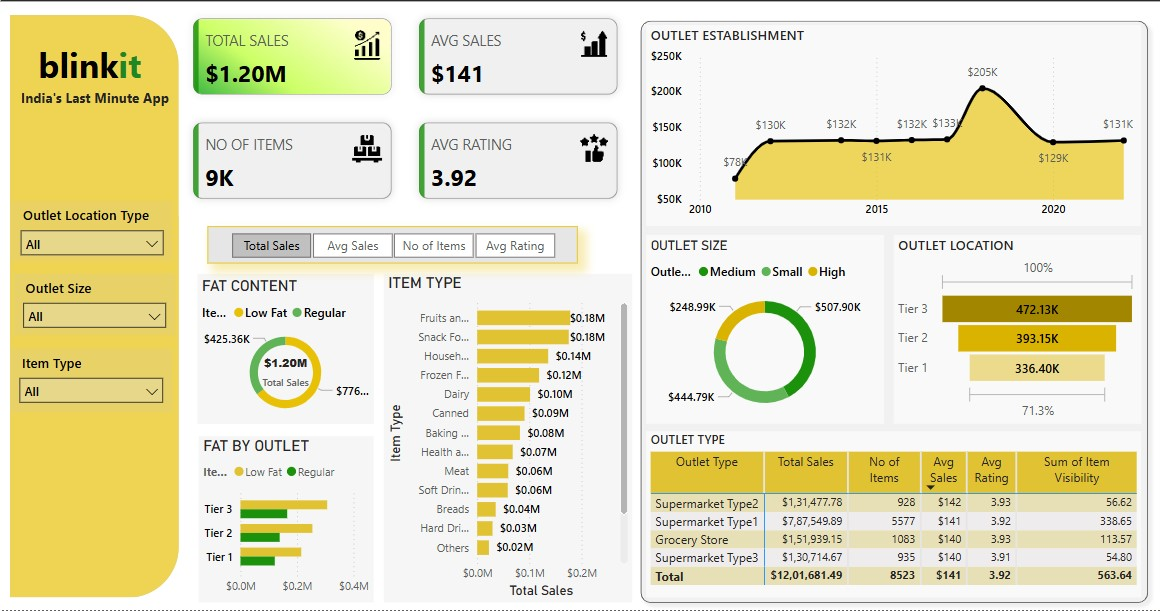

The dashboard page shown, as its layout file describes it:
{"tool":"powerbi","page":{"name":"Page 1","canvas":[1280,720],"ordinal":0},"visuals":[{"type":"shape","box":[11,65.9,185.2,639.5],"z":0},{"type":"textbox","box":[255.2,638.1,185.2,67.2],"z":1000},{"type":"textbox","box":[37,90.6,134.5,60.4],"z":2000},{"type":"textbox","box":[12.3,141.3,183.9,35.7],"z":3000},{"type":"cardVisual","fields":{"Data":["BlinkIT Grocery Data.Total Sales","BlinkIT Grocery Data.Average Sales","BlinkIT Grocery Data.No of Items","BlinkIT Grocery Data.Avg Rating"]},"box":[196.2,53.5,498.1,231.9],"z":4000},{"type":"shape","box":[694.3,63.1,575,657.3],"z":5000},{"type":"donutChart","title":"FAT CONTENT","fields":{"Y":["BlinkIT Grocery Data.Total Sales"],"Category":["BlinkIT Grocery Data.Item Fat Content"]},"box":[216.8,349.9,193.5,164.7],"z":6000},{"type":"slicer","fields":{"Values":["Matrices.Matrices"]},"box":[227.8,297.8,406.2,41.2],"z":7000},{"type":"card","fields":{"Values":["BlinkIT Grocery Data.Total Sales"]},"box":[278.6,432.2,70,53.5],"z":8000},{"type":"clusteredBarChart","title":"FAT BY  OUTLET","fields":{"Y":["BlinkIT Grocery Data.Total Sales"],"Category":["BlinkIT Grocery Data.Outlet Location Type"],"Series":["BlinkIT Grocery Data.Item Fat Content"]},"box":[218.2,528.3,192.1,182.5],"z":9000},{"type":"barChart","title":"ITEM TYPE","fields":{"Y":["BlinkIT Grocery Data.Total Sales"],"Category":["BlinkIT Grocery Data.Item Type"]},"box":[421.3,349.9,253.9,355.4],"z":10000},{"type":"lineChart","title":"OUTLET ESTABLISHMENT","fields":{"Category":["BlinkIT Grocery Data.Outlet Establishment Year"],"Y":["BlinkIT Grocery Data.Total Sales"]},"box":[709.4,76.8,543.4,220.9],"z":11000},{"type":"donutChart","title":"OUTLET SIZE","fields":{"Y":["BlinkIT Grocery Data.Total Sales"],"Category":["BlinkIT Grocery Data.Outlet Size"]},"box":[709.4,307.4,260.7,207.2],"z":12000},{"type":"funnel","title":"OUTLET LOCATION","fields":{"Category":["BlinkIT Grocery Data.Outlet Location Type"],"Y":["Sum(BlinkIT Grocery Data.Sales)"]},"box":[981.1,307.4,271.7,207.2],"z":13000},{"type":"pivotTable","title":"OUTLET TYPE","fields":{"Rows":["BlinkIT Grocery Data.Outlet Type"],"Values":["BlinkIT Grocery Data.Total Sales","BlinkIT Grocery Data.No of Items","BlinkIT Grocery Data.Avg Sales","BlinkIT Grocery Data.Avg Rating","Sum(BlinkIT Grocery Data.Item Visibility)"]},"box":[709.4,522.8,543.4,182.5],"z":14000},{"type":"slicer","fields":{"Values":["BlinkIT Grocery Data.Outlet Location Type"]},"box":[12.3,270.3,177,65.9],"z":15000},{"type":"slicer","fields":{"Values":["BlinkIT Grocery Data.Outlet Size"]},"box":[15.1,349.9,177,67.2],"z":16000},{"type":"slicer","fields":{"Values":["BlinkIT Grocery Data.Item Type"]},"box":[11,432.2,178.4,70],"z":17000}]}

Visuals, with their boxes on the page's 1280x720 design canvas (x1, y1, x2, y2). These are canvas units, not pixel positions in the 1160x611 screenshot, which may show the page scaled, cropped or inside an application window:
shape: 11/66/196/705
textbox: 255/638/440/705
textbox: 37/91/172/151
textbox: 12/141/196/177
cardVisual - BlinkIT Grocery Data.Total Sales x BlinkIT Grocery Data.Average Sales: 196/54/694/285
shape: 694/63/1269/720
"FAT CONTENT" donutChart: 217/350/410/515
slicer - Matrices.Matrices: 228/298/634/339
card - BlinkIT Grocery Data.Total Sales: 279/432/349/486
"FAT BY  OUTLET" clusteredBarChart: 218/528/410/711
"ITEM TYPE" barChart: 421/350/675/705
"OUTLET ESTABLISHMENT" lineChart: 709/77/1253/298
"OUTLET SIZE" donutChart: 709/307/970/515
"OUTLET LOCATION" funnel: 981/307/1253/515
"OUTLET TYPE" pivotTable: 709/523/1253/705
slicer - BlinkIT Grocery Data.Outlet Location Type: 12/270/189/336
slicer - BlinkIT Grocery Data.Outlet Size: 15/350/192/417
slicer - BlinkIT Grocery Data.Item Type: 11/432/189/502
